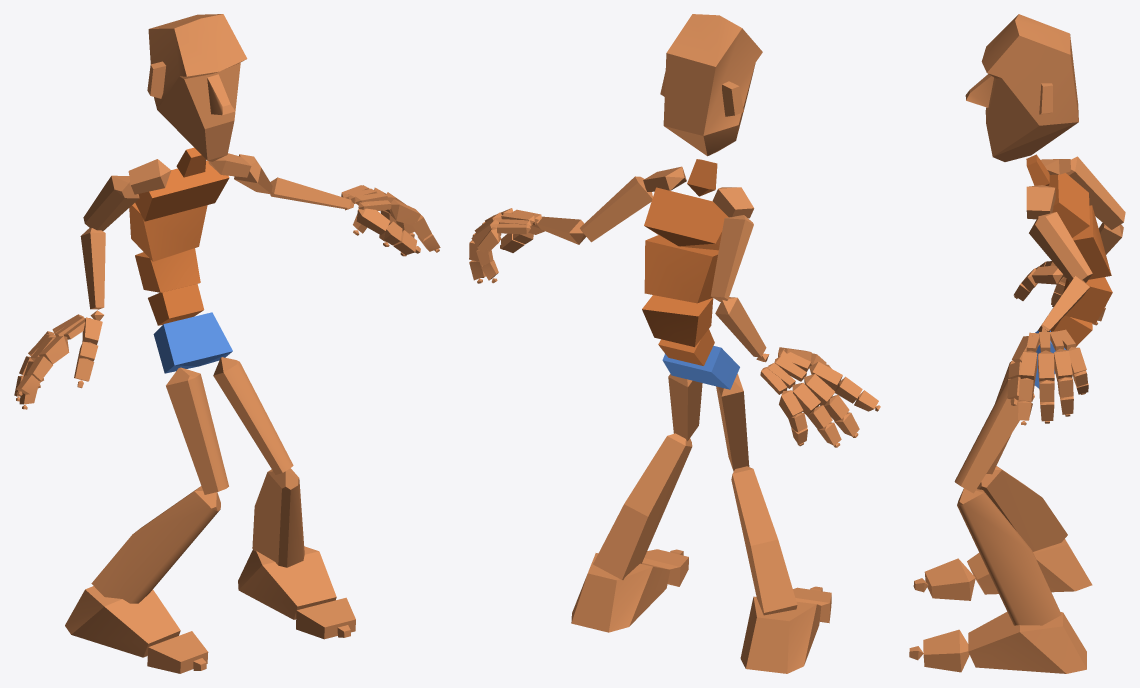
The model's file is prueba143.obj.
3 views of the same model, side by side, from view 1: azimuth 30°, elevation 25°; view 2: azimuth 150°, elevation 25°; view 3: azimuth 270°, elevation 25° (orthographic). The views are drawn at different scales.
Visible parts, largest first — view 1: BOPED_Head, BOPED_R_leg, BOPED_R_foot, BOPED_R_foot01, BOPED_L_leg, BOPED_R_legup, Bone01, BOPED_L_legup, Bone04, Bone05, Bone03, BOPED_R_arm_upper (+9 smaller); view 2: BOPED_Head, BOPED_L_leg, BOPED_R_leg, BOPED_R_foot01, BOPED_R_foot, Bone04, Bone05, Bone03, BOPED_R_arm_upper, BOPED_R_legup, BOPED_L_arm_upper, Bone01 (+9 smaller); view 3: BOPED_Head, BOPED_L_leg, BOPED_R_foot01, BOPED_R_leg, BOPED_L_legup, BOPED_R_foot, BOPED_L_arm_upper, Bone05, BOPED_R_foot_toe01, BOPED_R_arm_upper, BOPED_R_foot_toe04, Bone04 (+14 smaller).
Boxes of the visible parts, x1,y1,x2,y2 form: BOPED_Head: (147,14,247,161); BOPED_R_leg: (91,486,220,603); BOPED_R_foot: (65,586,180,657); BOPED_R_foot01: (238,546,336,619); BOPED_L_leg: (252,468,304,567); BOPED_R_legup: (166,367,228,494); Bone01: (153,312,232,373); BOPED_L_legup: (213,357,293,474); Bone04: (129,203,207,261); Bone05: (135,160,229,221); Bone03: (135,248,200,292); BOPED_R_arm_upper: (83,175,139,230); BOPED_Head: (660,14,762,156); BOPED_L_leg: (593,433,692,579); BOPED_R_leg: (731,466,797,615); BOPED_R_foot01: (571,553,670,632); BOPED_R_foot: (740,596,821,673); Bone04: (644,235,718,303); Bone05: (644,187,728,250); Bone03: (642,295,713,347); BOPED_R_arm_upper: (710,215,753,301); BOPED_R_legup: (716,374,749,471); BOPED_L_arm_upper: (580,176,652,242); Bone01: (662,345,739,389); BOPED_Head: (965,14,1078,161); BOPED_L_leg: (957,488,1061,625); BOPED_R_foot01: (968,612,1086,673); BOPED_R_leg: (977,466,1067,551); BOPED_L_legup: (954,379,1034,493); BOPED_R_foot: (967,539,1092,594); BOPED_L_arm_upper: (1029,212,1092,282); Bone05: (1048,173,1089,237); BOPED_R_foot_toe01: (924,558,975,600); BOPED_R_arm_upper: (1066,156,1125,229); BOPED_R_foot_toe04: (923,629,969,672); Bone04: (1069,205,1111,282).
Size of the model in its own units: 130 by 183 by 60.05.
